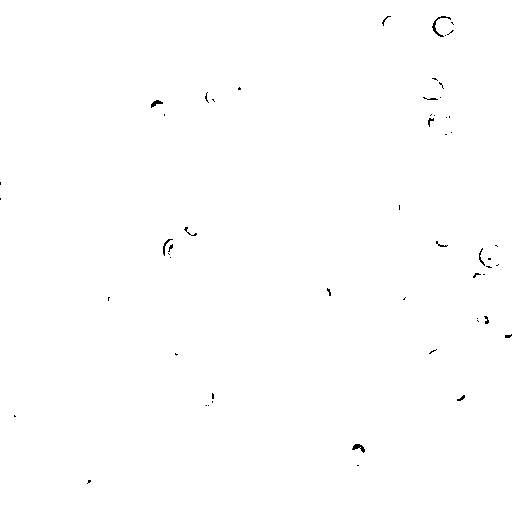micro-algae: (19, 11, 176, 159), (163, 317, 248, 403), (212, 455, 331, 512), (0, 215, 41, 287), (81, 250, 131, 297), (157, 0, 231, 31), (65, 287, 104, 322), (221, 69, 252, 104), (1, 395, 32, 429), (425, 106, 458, 137), (141, 241, 173, 270), (6, 449, 40, 476), (105, 408, 134, 439), (162, 235, 191, 265), (253, 391, 282, 420), (415, 75, 445, 102), (477, 241, 505, 269), (339, 453, 369, 479), (384, 280, 411, 305), (431, 14, 457, 37), (433, 223, 456, 249), (467, 271, 495, 291), (81, 473, 105, 495), (425, 347, 450, 367), (170, 284, 192, 305), (103, 256, 126, 276), (10, 12, 29, 36), (311, 283, 332, 304), (149, 99, 167, 123), (277, 14, 298, 34), (203, 86, 223, 107), (381, 14, 401, 35), (323, 434, 343, 451), (200, 389, 216, 408), (397, 197, 413, 216), (473, 311, 492, 327), (1, 181, 15, 202), (450, 388, 467, 405), (170, 343, 188, 359), (52, 84, 67, 102), (417, 193, 431, 212), (351, 441, 367, 457), (183, 221, 201, 235), (107, 292, 121, 307), (497, 325, 512, 339), (198, 505, 223, 512), (97, 0, 114, 5)
